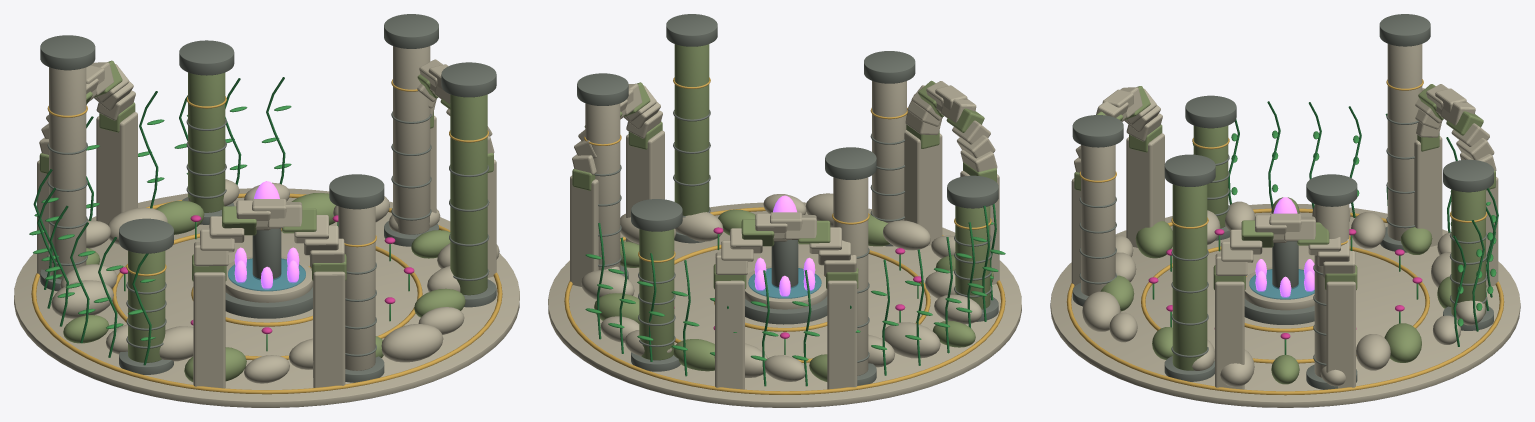
The model's file is fantasy_ruin_courtyard.glb.
The picture shows the model from 3 angles, left to right: view 1: azimuth 30°, elevation 25°; view 2: azimuth 150°, elevation 25°; view 3: azimuth 270°, elevation 25°; orthographic projection. The views are drawn at different scales.
Visible parts, largest first — view 1: Ruin_CourtyardFloor, Column_6_Shaft, Column_3_Shaft, Column_1_Shaft, Column_5_Shaft, Column_2_Shaft, Arch_2_Pier_L, Arch_3_Pier_R, Arch_3_Pier_L, Column_4_Shaft, Courtyard_Inlay_3, Fountain_Basin (+48 smaller); view 2: Ruin_CourtyardFloor, Column_6_Shaft, Column_5_Shaft, Column_1_Shaft, Column_2_Shaft, Column_3_Shaft, Arch_3_Pier_R, Arch_2_Pier_R, Arch_2_Pier_L, Courtyard_Inlay_3, Column_4_Shaft, Arch_1_Pier_R (+50 smaller); view 3: Ruin_CourtyardFloor, Column_6_Shaft, Column_3_Shaft, Column_5_Shaft, Arch_3_Pier_L, Column_2_Shaft, Arch_1_Pier_R, Arch_1_Pier_L, Courtyard_Inlay_3, Arch_2_Pier_R, Column_1_Shaft, Column_4_Shaft (+44 smaller).
Part boxes in pixels (x1,y1,x2,y2): Ruin_CourtyardFloor: (14,188,519,407); Column_6_Shaft: (450,94,487,295); Column_3_Shaft: (49,67,86,279); Column_1_Shaft: (393,46,430,234); Column_5_Shaft: (338,206,375,370); Column_2_Shaft: (188,72,225,212); Arch_2_Pier_L: (96,112,137,224); Arch_3_Pier_R: (313,271,345,387); Arch_3_Pier_L: (193,272,225,388); Column_4_Shaft: (128,251,165,362); Courtyard_Inlay_3: (31,193,502,394); Fountain_Basin: (225,256,312,302); Ruin_CourtyardFloor: (548,202,1021,407); Column_6_Shaft: (674,44,709,215); Column_5_Shaft: (872,81,906,223); Column_1_Shaft: (585,103,620,270); Column_2_Shaft: (639,229,674,360); Column_3_Shaft: (833,177,868,375); Arch_3_Pier_R: (904,130,942,245); Arch_2_Pier_R: (827,280,857,389); Arch_2_Pier_L: (715,280,744,389); Courtyard_Inlay_3: (564,207,1005,394); Column_4_Shaft: (955,205,990,309); Arch_1_Pier_R: (570,175,598,286); Ruin_CourtyardFloor: (1050,204,1520,407); Column_6_Shaft: (1172,184,1207,370); Column_3_Shaft: (1387,44,1422,240); Column_5_Shaft: (1081,144,1115,296); Arch_3_Pier_L: (1126,133,1164,247); Column_2_Shaft: (1451,189,1485,315); Arch_1_Pier_R: (1326,281,1355,388); Arch_1_Pier_L: (1215,281,1244,389); Courtyard_Inlay_3: (1066,208,1504,395); Arch_2_Pier_R: (1414,136,1442,246); Column_1_Shaft: (1314,204,1349,377); Column_4_Shaft: (1193,125,1228,228).
Bounding box in the file's own units: 11.4 × 5.98 × 11.4.
